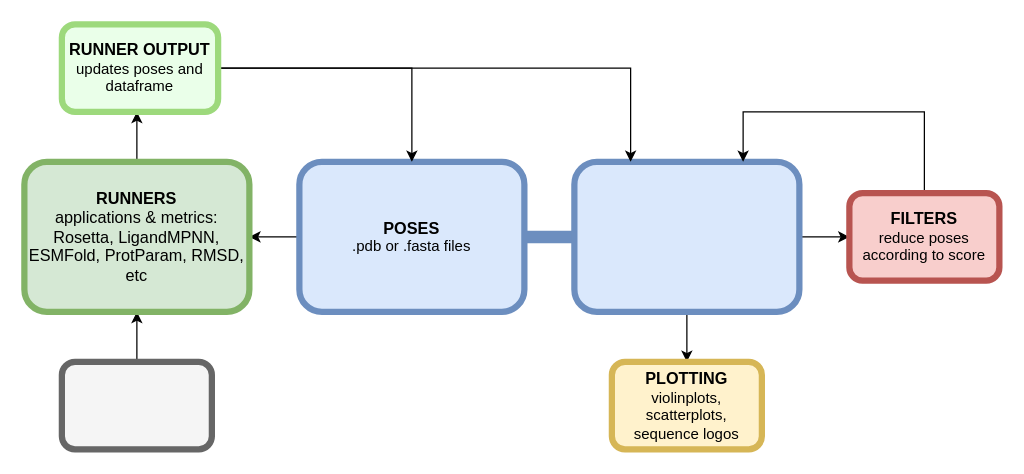
The diagram is 1024 pixels wide and 474 high, and some of its shapes have lost their labels. The centre of each missing label's shape, as x and y in pixels:
"JOBSTARTERS SLURM, local" goes at (136,405).
"POSES DATAFRAME table containing scores" goes at (686,236).
